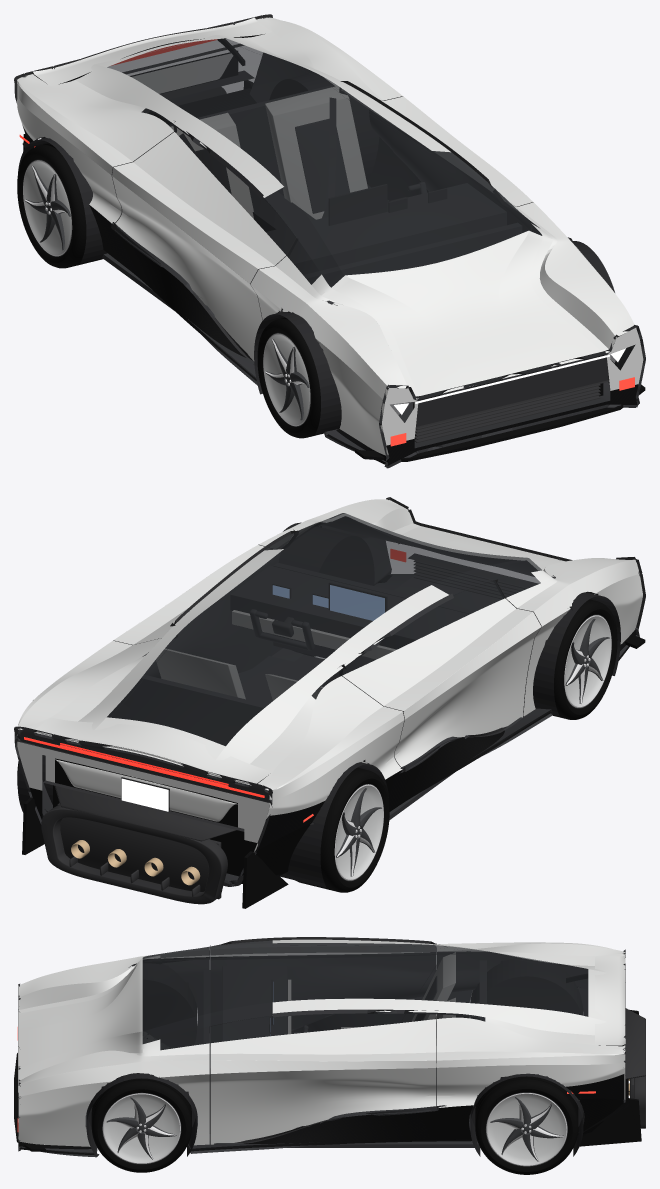
The model's file is roadster.glb.
3 views of the same model, one above another, from view 1: azimuth 30°, elevation 25°; view 2: azimuth 150°, elevation 25°; view 3: azimuth 270°, elevation 25° (orthographic). The views are drawn at different scales.
Parts seen in each view (by area): view 1: Body, Door_R, Seat, Wheel_RR, Door_L, Wheel_FR, Wing_Blade, Light_Head; view 2: Body, Door_R, Door_L, Wheel_RR, Wheel_FR, Wing_Blade, Seat, Yoke, Light_Tail; view 3: Body, Door_L, Door_R, Wheel_RL, Wheel_FL, Wing_Blade, Seat.
Part boxes in pixels (x1,y1,x2,y2): Body: [14, 14, 645, 468]; Door_R: [111, 124, 298, 361]; Seat: [171, 86, 367, 219]; Wheel_RR: [17, 143, 102, 268]; Door_L: [342, 89, 533, 232]; Wheel_FR: [257, 317, 323, 438]; Wing_Blade: [32, 17, 271, 85]; Light_Head: [394, 348, 625, 414]; Body: [14, 497, 645, 908]; Door_R: [339, 579, 541, 771]; Door_L: [113, 529, 298, 678]; Wheel_RR: [295, 767, 389, 892]; Wheel_FR: [552, 599, 617, 719]; Wing_Blade: [35, 718, 271, 784]; Seat: [156, 648, 367, 763]; Yoke: [250, 609, 314, 650]; Light_Tail: [24, 737, 264, 797]; Body: [14, 937, 645, 1157]; Door_L: [210, 1012, 436, 1144]; Door_R: [210, 941, 436, 1042]; Wheel_RL: [475, 1076, 578, 1174]; Wheel_FL: [91, 1078, 191, 1172]; Wing_Blade: [595, 955, 625, 1046]; Seat: [341, 952, 455, 1067].
Bounding box in the file's own units: 2.07 × 1.11 × 4.35.
22 materials, 3 textured.
